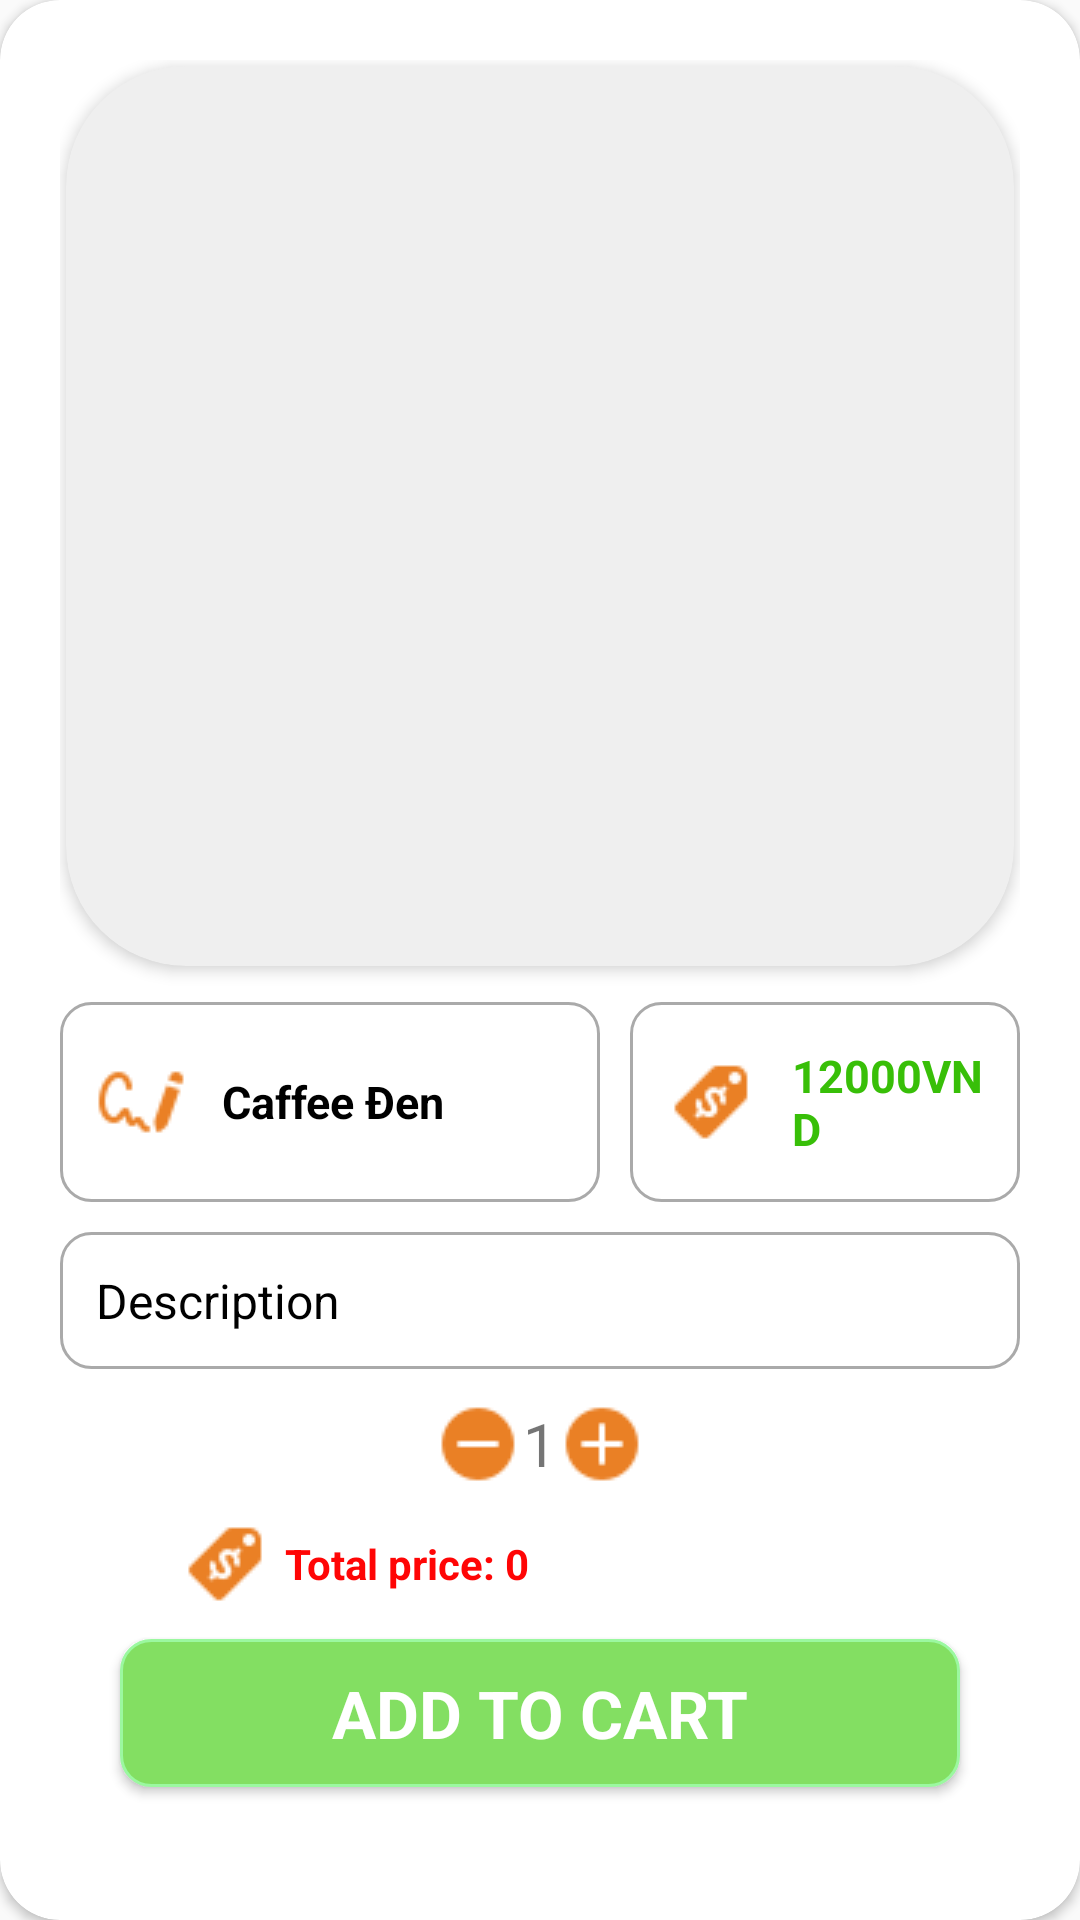

Screen size 1080px x 1920px. Icon name, then its center in pixels as [x,y]:
minus: [478,1444]
plus: [602,1444]
